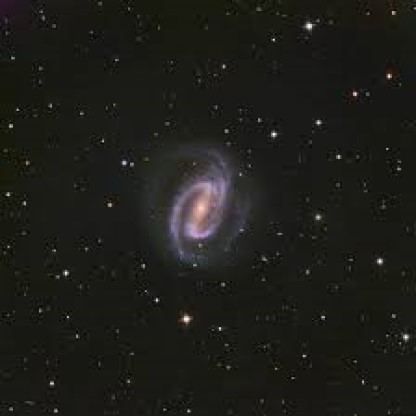NGC 1300: (129, 130, 264, 286)
